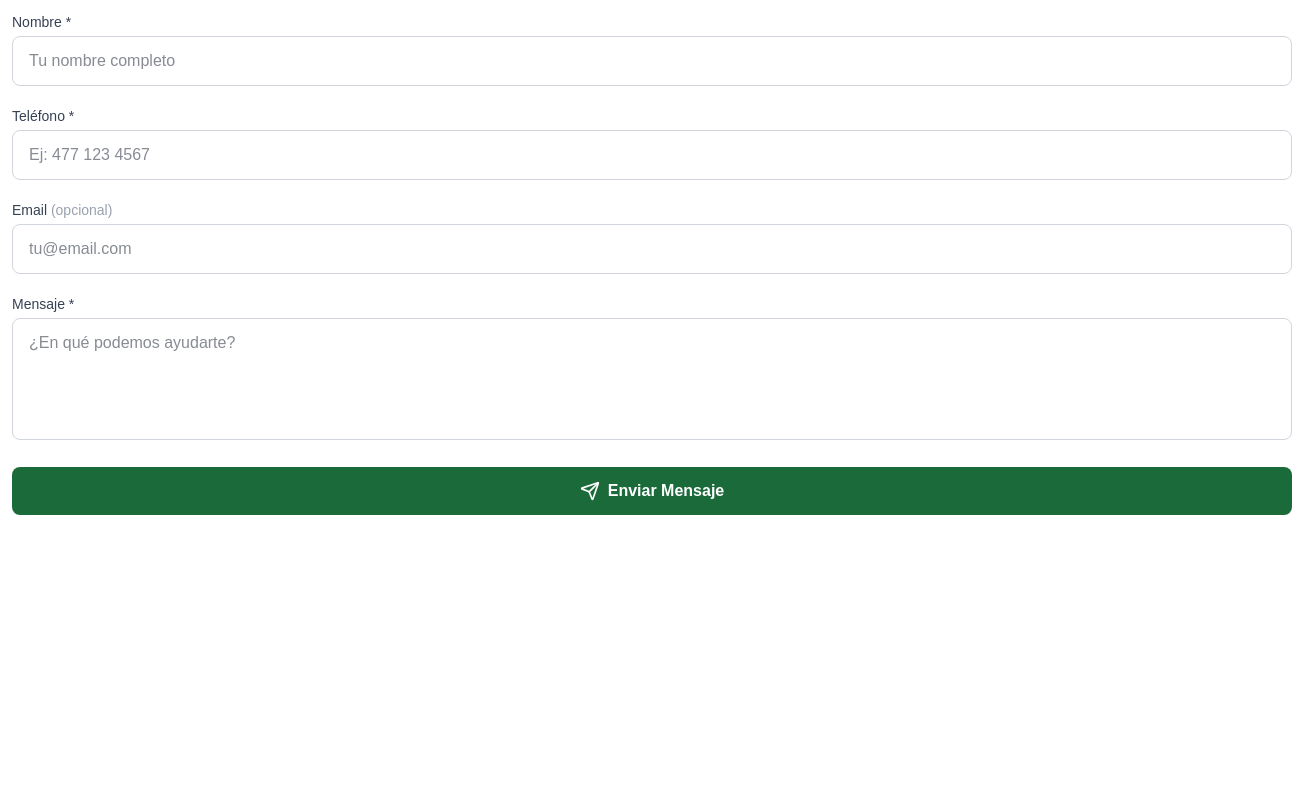
ContactForm › shows error state on failed submission
The width and height of the screenshot is (1304, 812).
Type "Juan" into the field labelled "Nombre *" at (652, 61), box [12, 36, 1292, 86]
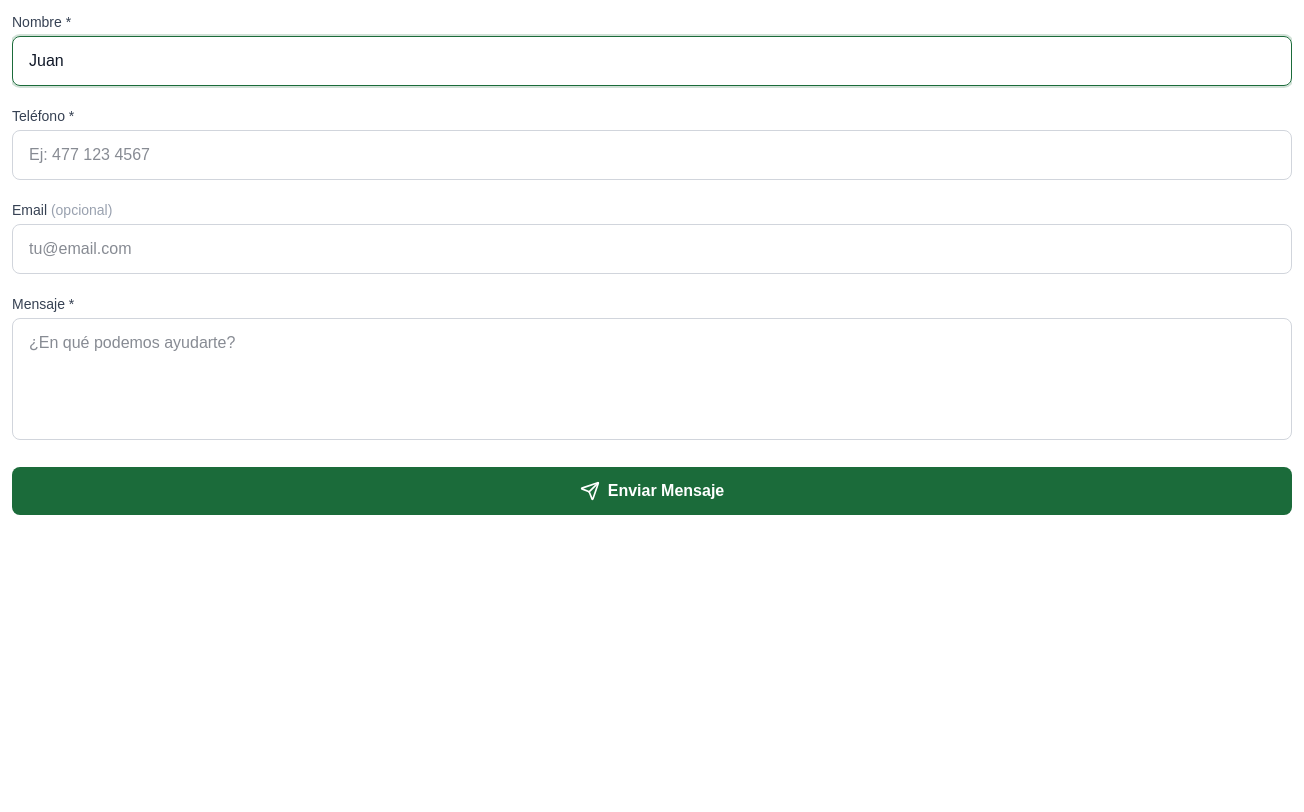
Type "4771234567" into the field labelled "Teléfono *" at (652, 155), box [12, 130, 1292, 180]
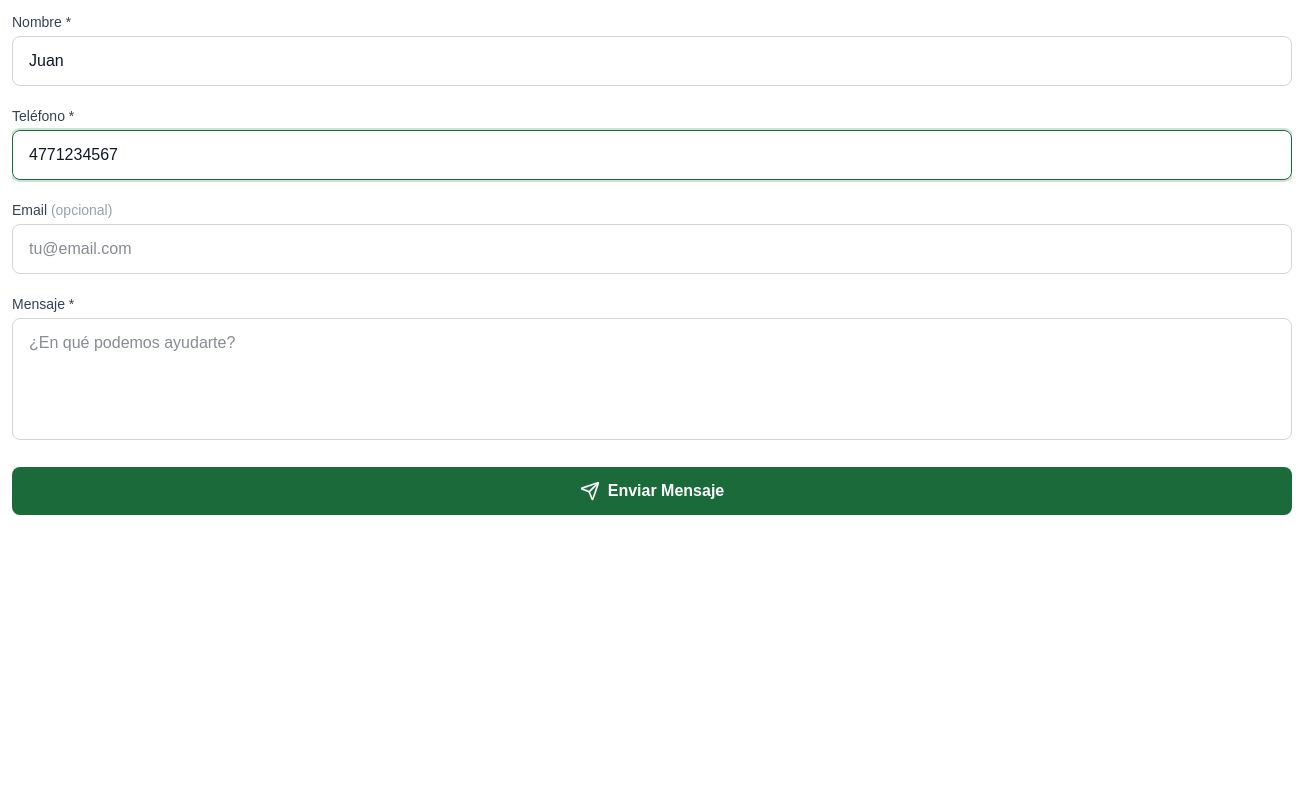
Type "Información del centro por favor" into the text box labelled "Mensaje *" at (652, 379), box [12, 318, 1292, 440]
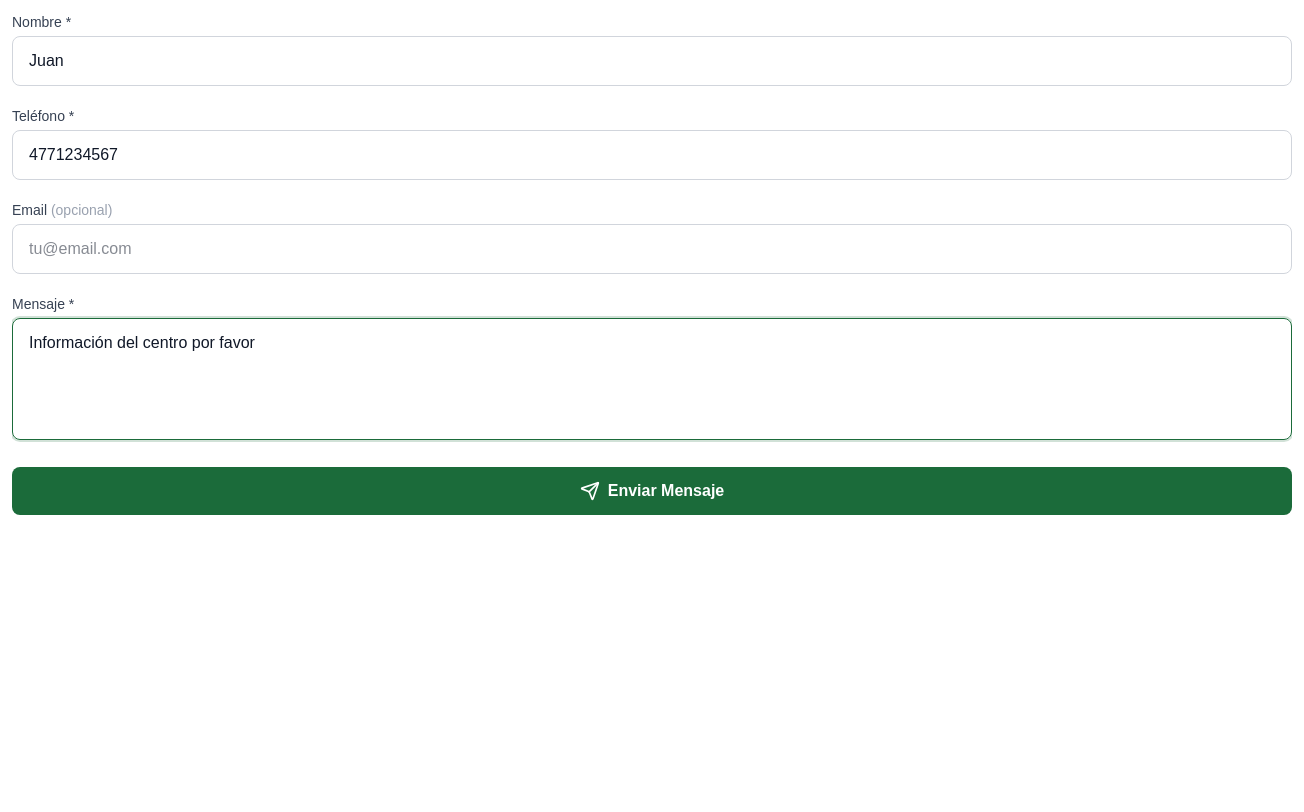
Click the button "Enviar Mensaje" at (652, 491), box [12, 467, 1292, 515]
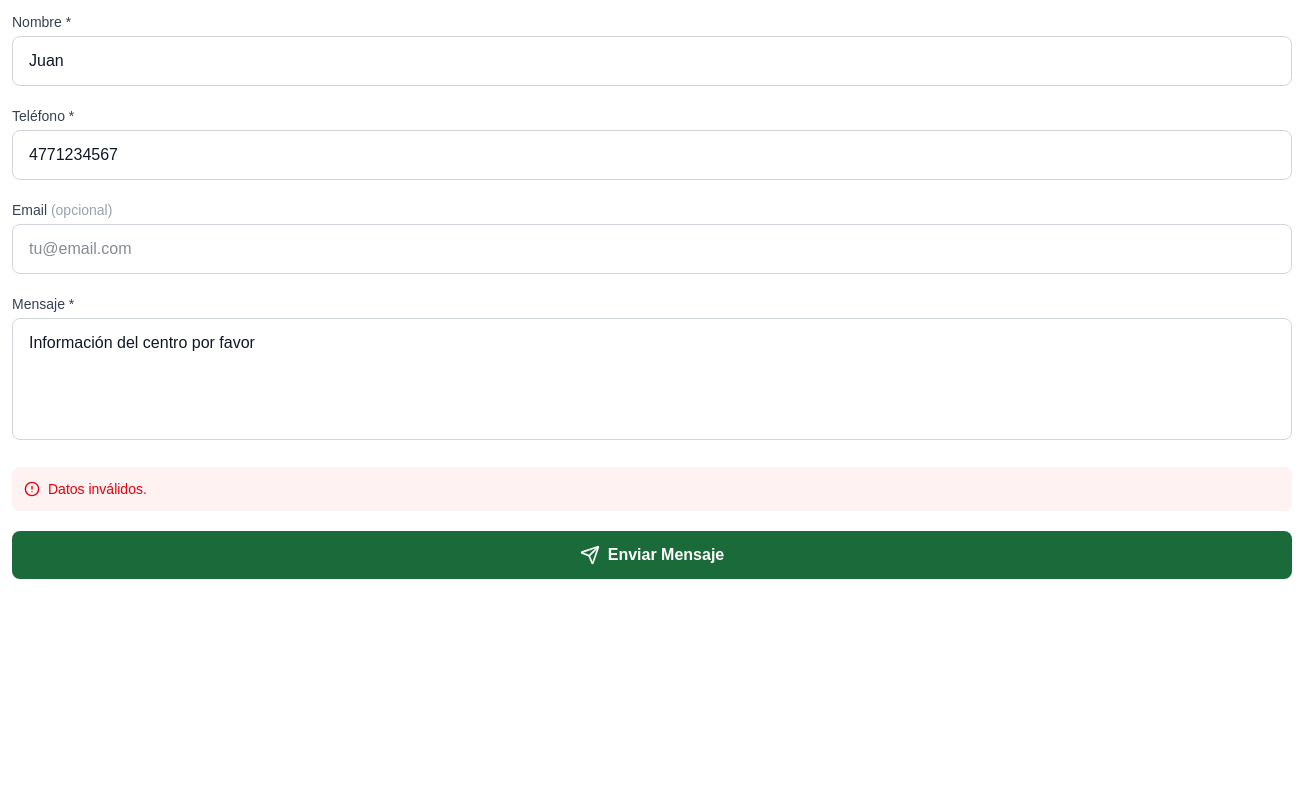
expect the text "Datos inválidos." is shown: met, box [12, 467, 1292, 511]
